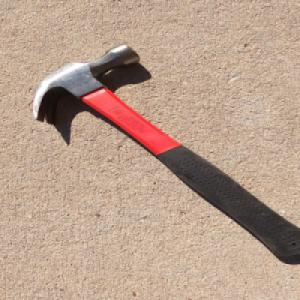Hammer: (29, 41, 300, 260)
